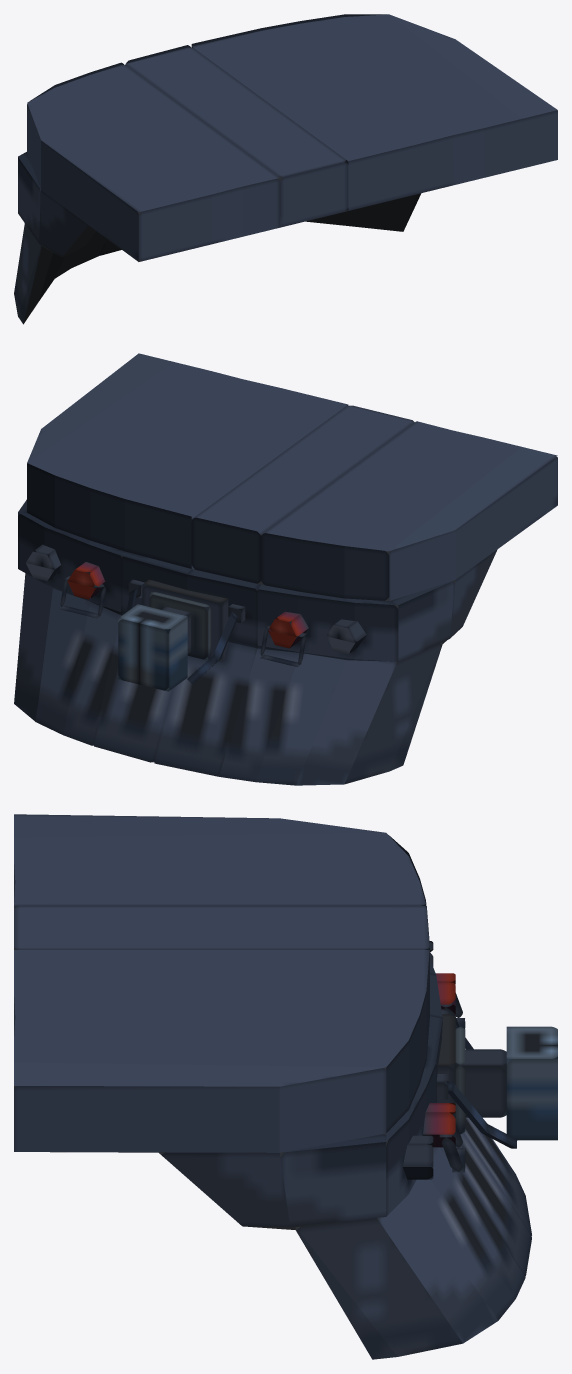
File: df11g_cowcatcher.obj
3 renders of one model, top to bottom at view 1: azimuth 30°, elevation 25°; view 2: azimuth 150°, elevation 25°; view 3: azimuth 270°, elevation 25°, orthographic. The views are drawn at different scales.
Visible parts, largest first — view 1: cube_selection_selection; view 2: cube_selection_selection; view 3: cube_selection_selection.
Boxes of the visible parts, left/top/right/bottom form: cube_selection_selection: left=14, top=14, right=557, bottom=324; cube_selection_selection: left=14, top=353, right=557, bottom=785; cube_selection_selection: left=14, top=814, right=557, bottom=1359.
Bounding box in the file's own units: 3.14 × 1.56 × 2.66.
